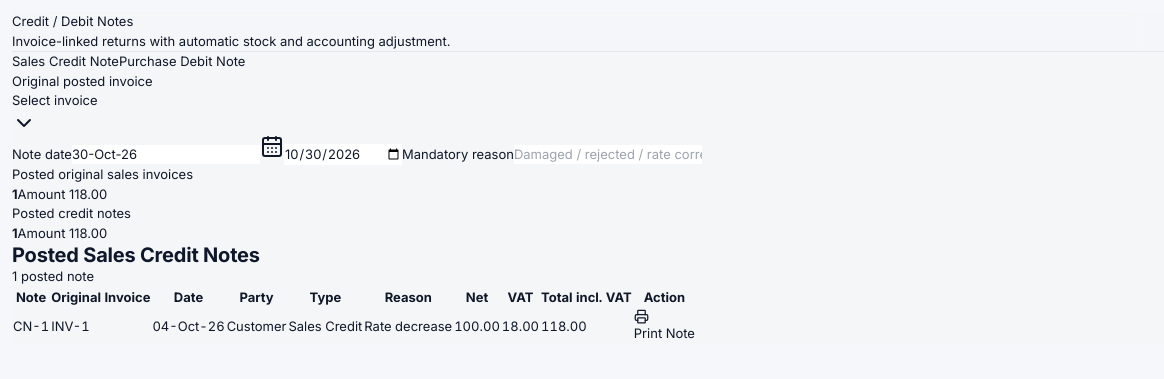
Test case: prints service credit-note net and VAT lines from canonical service evidence
The image size is (1164, 379).
Expected: the text "CN-1" is shown, [12,308,50,344]
Click the button "Print Note".
click(664, 326)  # box [634,309,695,344]
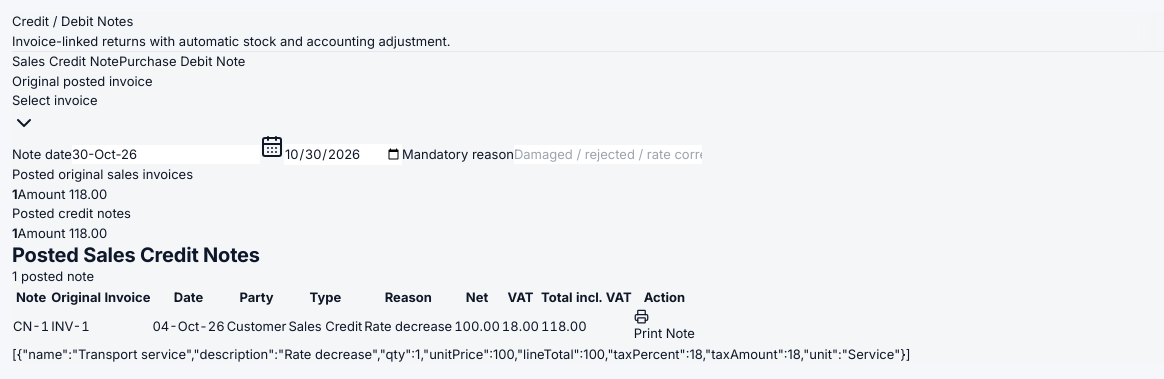
Result: the text with test id "note-print" shows "Transport service" at [12,346,910,362]
Result: the text with test id "note-print" shows "\"taxAmount\":18" at [12,346,910,362]
Result: the text with test id "note-print" shows "\"lineTotal\":100" at [12,346,910,362]
